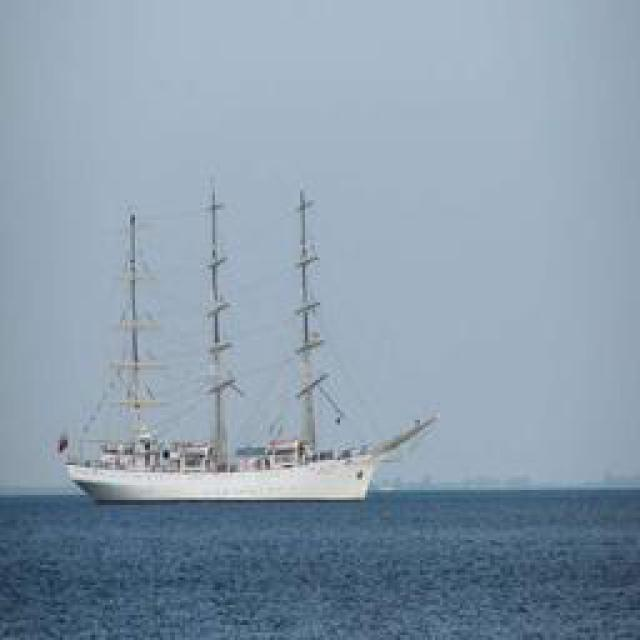Ship: (51, 177, 431, 505)
